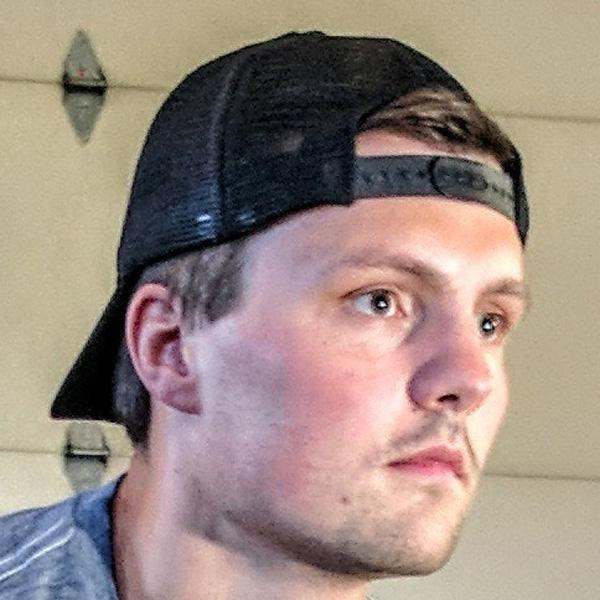Eyes: (336, 272, 410, 326), (467, 293, 512, 354)
